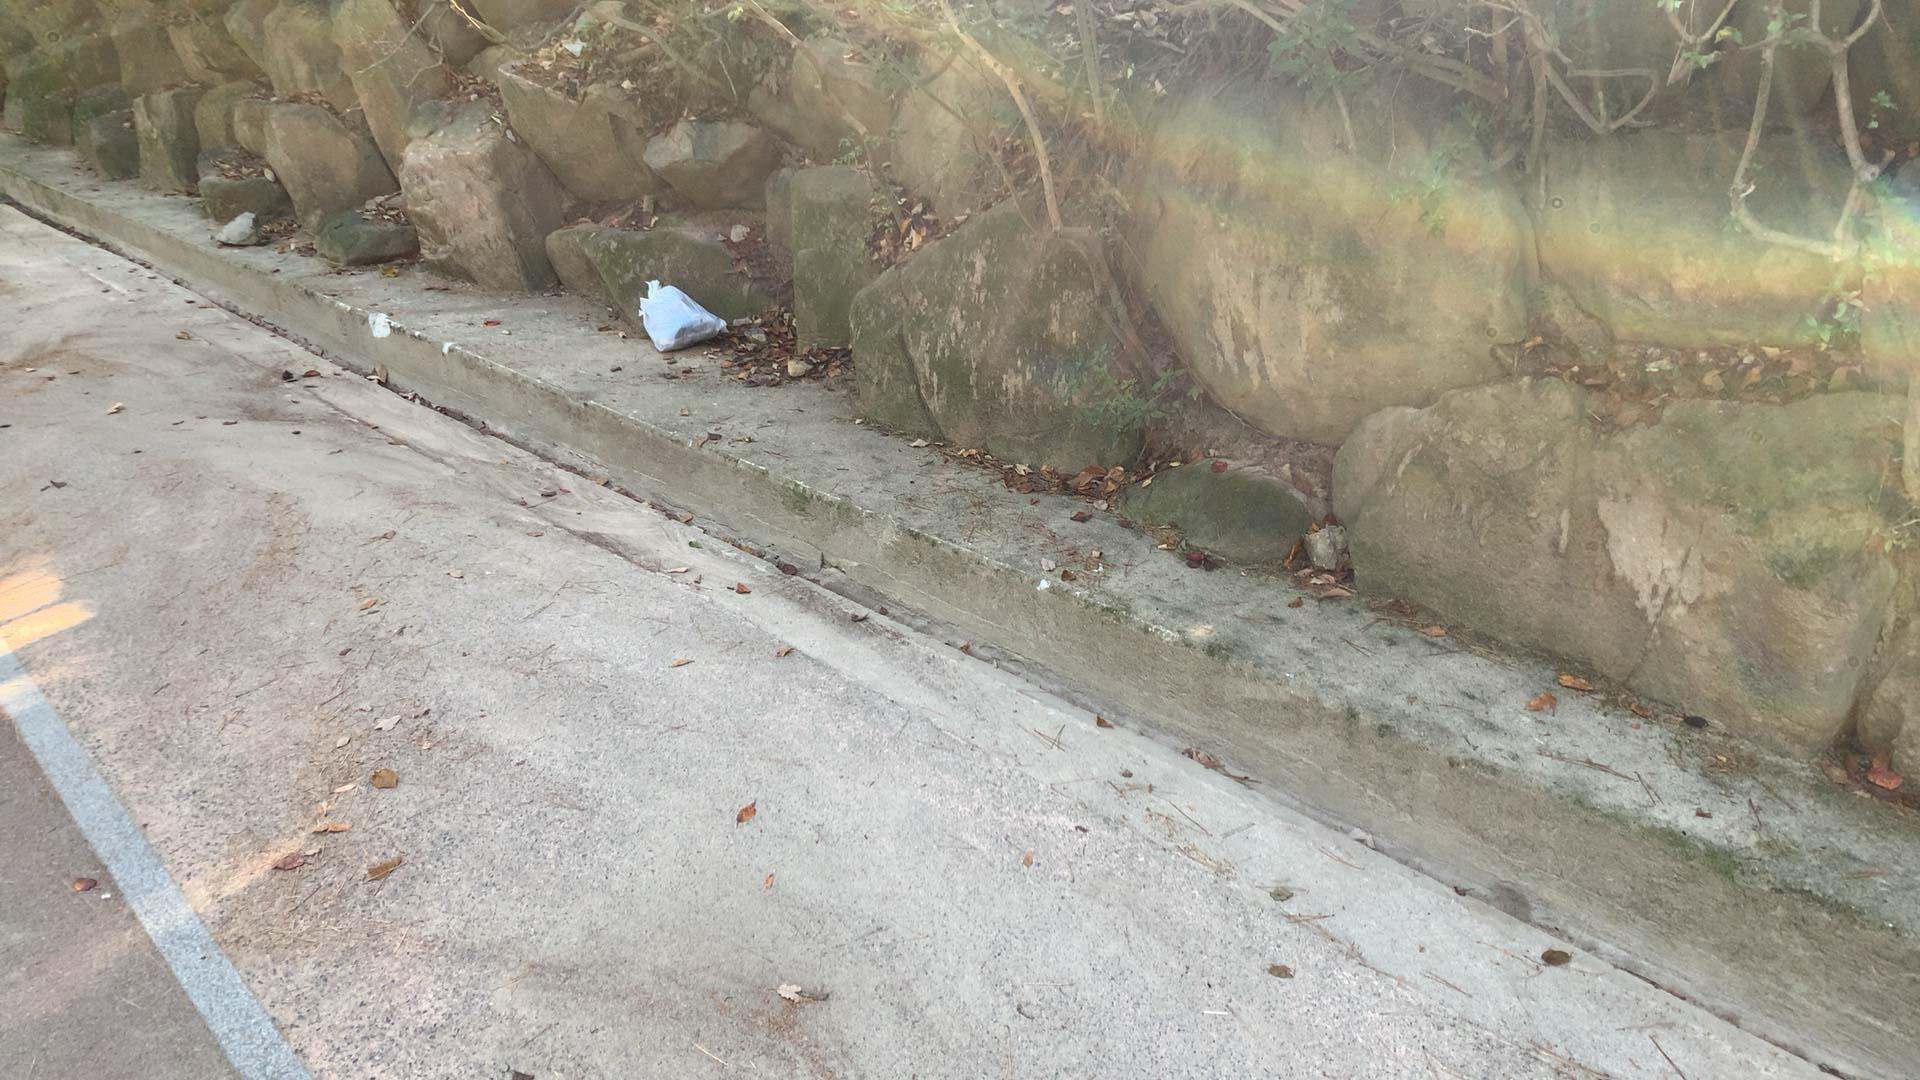white_bag: (632, 276, 731, 353)
